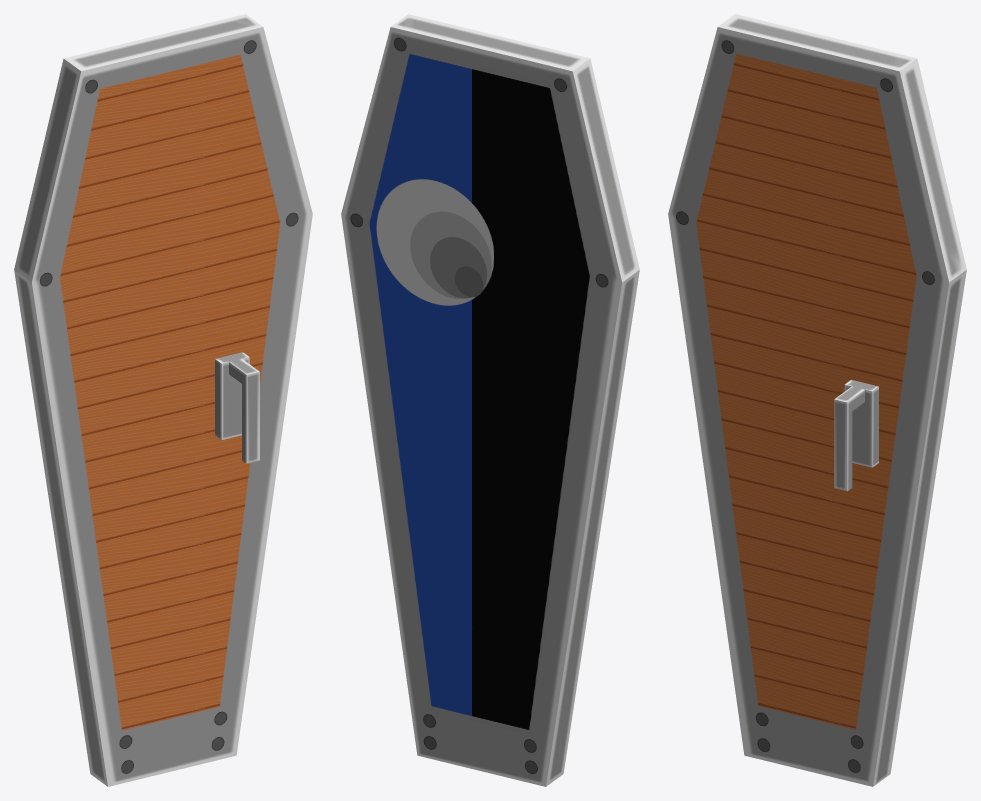
File: Shield.fbx
3 renders of one model, left to right at view 1: azimuth 30°, elevation 25°; view 2: azimuth 150°, elevation 25°; view 3: azimuth 330°, elevation 25°, orthographic.
Visible parts, largest first — view 1: Shield; view 2: Shield; view 3: Shield.
Part boxes in pixels (<box>): Shield: <box>14,14,312,786</box>; Shield: <box>341,14,639,786</box>; Shield: <box>668,14,966,786</box>.
Size of the model in its own units: 52.95 by 13.74 by 130.
1 material, 1 textured.
